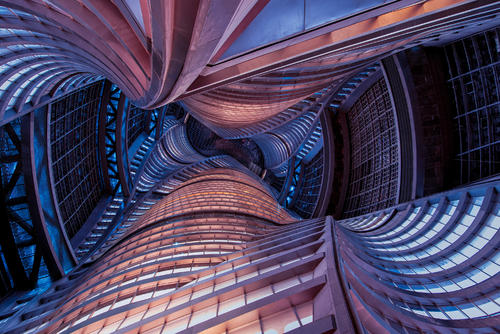buildings: (22, 63, 488, 318)
